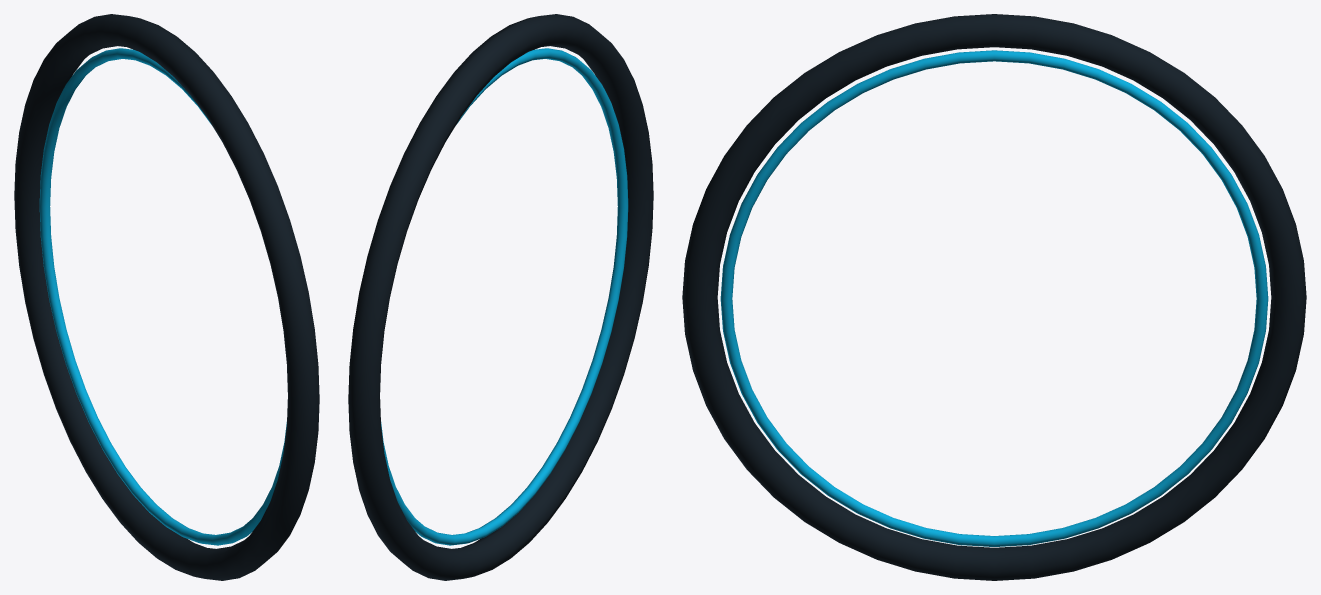
The model's file is SM_StationRing.obj.
The picture shows the model from 3 angles, left to right: view 1: azimuth 30°, elevation 25°; view 2: azimuth 150°, elevation 25°; view 3: azimuth 270°, elevation 25°; orthographic projection. The views are drawn at different scales.
Visible parts, largest first — view 1: SM_StationRing; view 2: SM_StationRing; view 3: SM_StationRing.
Boxes of the visible parts, x1,y1,x2,y2 form: SM_StationRing: [14, 14, 319, 580]; SM_StationRing: [348, 14, 653, 580]; SM_StationRing: [682, 14, 1306, 580].
Bounding box in the file's own units: 12 × 212 × 212.
